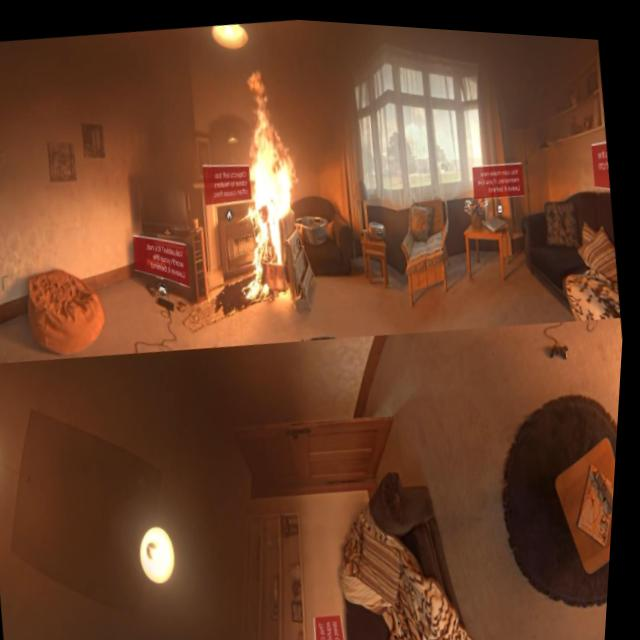fire: (216, 60, 318, 304)
